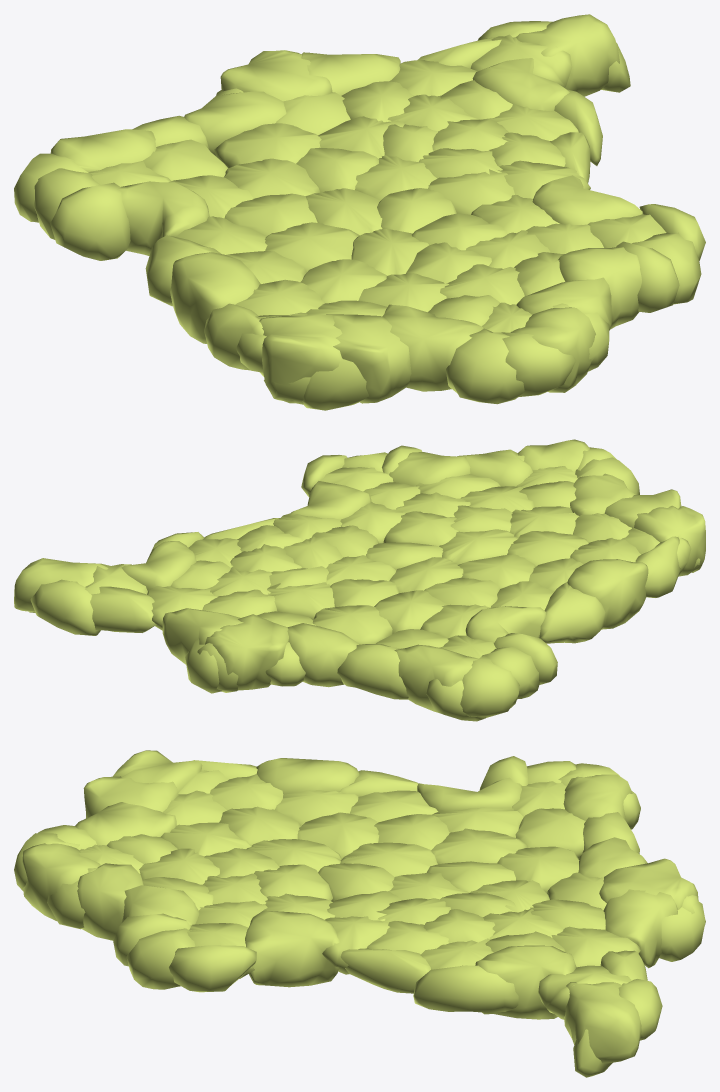
File: Islands3.006_fog.fbx
The picture shows the model from 3 angles, top to bottom: view 1: azimuth 30°, elevation 25°; view 2: azimuth 150°, elevation 25°; view 3: azimuth 270°, elevation 25°; orthographic projection. The views are drawn at different scales.
Parts seen in each view (by area): view 1: Island3.006_fog_cell.020, Island3.006_fog_cell.073, Island3.006_fog_cell.001, Island3.006_fog_cell.051, Island3.006_fog_cell.078, Island3.006_fog_cell.025, Island3.006_fog_cell.004, Island3.006_fog_cell.007, Island3.006_fog_cell.076, Island3.006_fog_cell.003, Island3.006_fog_cell.031, Island3.006_fog_cell.014 (+65 smaller); view 2: Island3.006_fog_cell.076, Island3.006_fog_cell.073, Island3.006_fog_cell.042, Island3.006_fog_cell.031, Island3.006_fog_cell.067, Island3.006_fog_cell.072, Island3.006_fog_cell.055, Island3.006_fog_cell.006, Island3.006_fog_cell.009, Island3.006_fog_cell.020, Island3.006_fog_cell.057, Island3.006_fog_cell.025 (+63 smaller); view 3: Island3.006_fog_cell.014, Island3.006_fog_cell.025, Island3.006_fog_cell.074, Island3.006_fog_cell.022, Island3.006_fog_cell.057, Island3.006_fog_cell.065, Island3.006_fog_cell.061, Island3.006_fog_cell.041, Island3.006_fog_cell.021, Island3.006_fog_cell.073, Island3.006_fog_cell.078, Island3.006_fog_cell.076 (+64 smaller).
Part boxes in pixels (x1,y1,x2,y2): Island3.006_fog_cell.020: (259,315,342,403); Island3.006_fog_cell.073: (170,252,260,343); Island3.006_fog_cell.001: (50,182,130,260); Island3.006_fog_cell.051: (326,314,411,403); Island3.006_fog_cell.078: (382,304,483,391); Island3.006_fog_cell.025: (516,14,619,96); Island3.006_fog_cell.004: (117,181,209,255); Island3.006_fog_cell.007: (446,328,524,404); Island3.006_fog_cell.076: (220,50,332,101); Island3.006_fog_cell.003: (558,247,641,329); Island3.006_fog_cell.031: (184,91,286,155); Island3.006_fog_cell.014: (532,175,642,225); Island3.006_fog_cell.076: (205,614,288,690); Island3.006_fog_cell.073: (567,559,648,629); Island3.006_fog_cell.042: (394,644,478,712); Island3.006_fog_cell.031: (287,623,359,687); Island3.006_fog_cell.067: (539,582,605,643); Island3.006_fog_cell.072: (337,644,408,699); Island3.006_fog_cell.055: (460,655,519,717); Island3.006_fog_cell.006: (30,579,100,635); Island3.006_fog_cell.009: (90,586,156,632); Island3.006_fog_cell.020: (634,505,705,576); Island3.006_fog_cell.057: (162,608,243,664); Island3.006_fog_cell.025: (14,558,108,612); Island3.006_fog_cell.014: (245,910,339,987); Island3.006_fog_cell.025: (564,982,641,1063); Island3.006_fog_cell.074: (413,965,518,1012); Island3.006_fog_cell.022: (475,945,576,1019); Island3.006_fog_cell.057: (603,889,677,968); Island3.006_fog_cell.065: (77,863,143,940); Island3.006_fog_cell.061: (169,945,256,992); Island3.006_fog_cell.041: (22,843,100,920); Island3.006_fog_cell.021: (340,948,430,993); Island3.006_fog_cell.073: (256,758,359,794); Island3.006_fog_cell.078: (75,802,176,845); Island3.006_fog_cell.076: (599,858,698,909).
Bounding box in the file's own units: 102 × 12.22 × 110.
